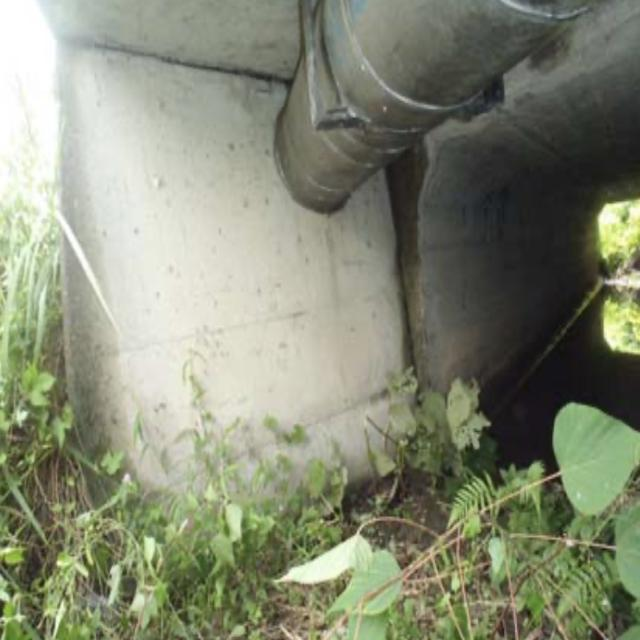leakage: (383, 126, 448, 456)
